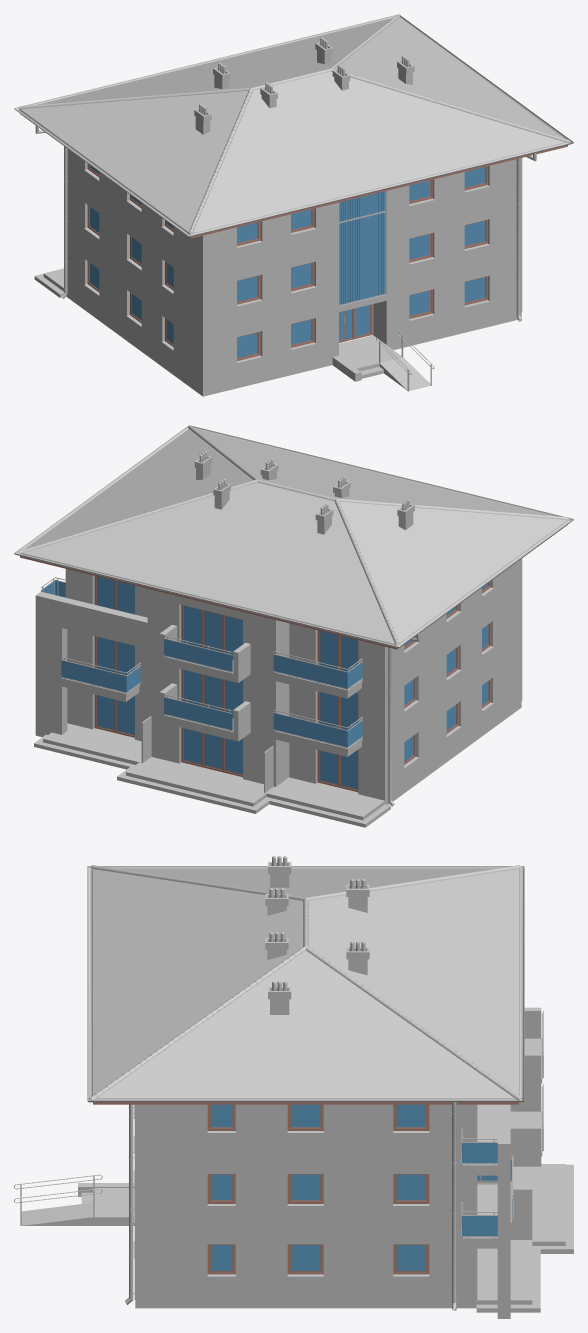
Rendered from bld_01.glb.
The picture shows the model from 3 angles, top to bottom: view 1: azimuth 30°, elevation 25°; view 2: azimuth 150°, elevation 25°; view 3: azimuth 270°, elevation 25°; orthographic projection. The views are drawn at different scales.
Parts seen in each view (by area): view 1: building_05; view 2: building_05; view 3: building_05.
Boxes of the visible parts, box(x1,y1,x2,y2) form: building_05: box(14, 14, 573, 396); building_05: box(14, 425, 573, 827); building_05: box(14, 856, 573, 1318).
Bounding box in the file's own units: 7.87 × 4.7 × 7.93.
